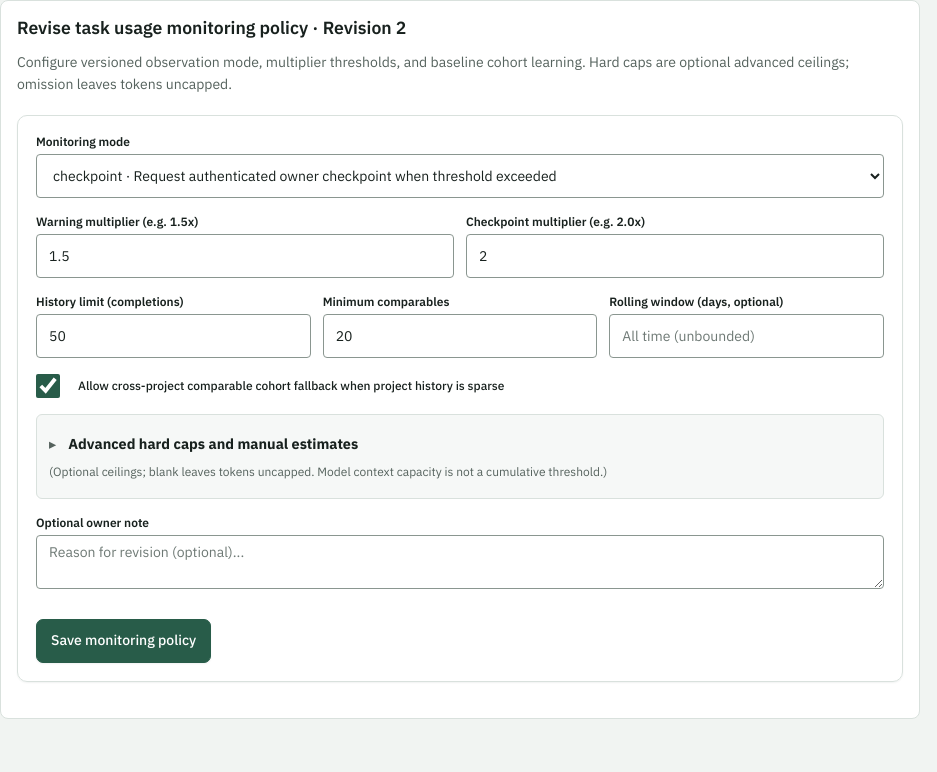
it: MonitoringPolicySummary and MonitoringPolicyEditor › MonitoringPolicyEditor › validates that minimum comparables cannot exceed history limit
Replace the text in the field labelled "Minimum comparables" with "100". click: (460,336)
box: 323,314 -> 597,358
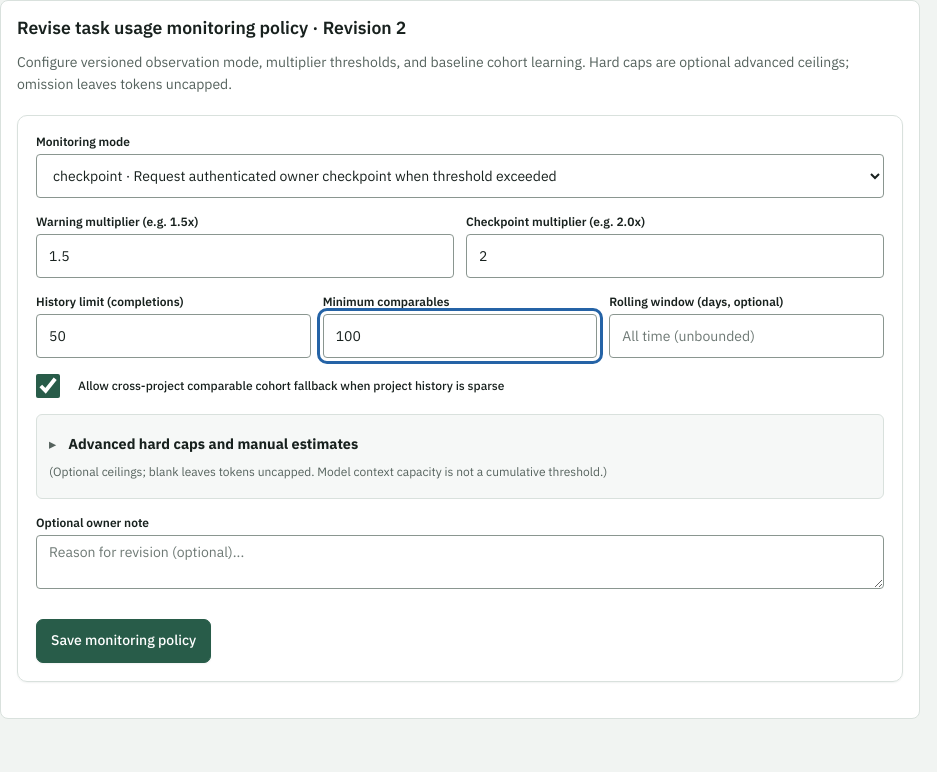
Click the button "Save monitoring policy". click: (124,641)
box: 36,619 -> 211,663
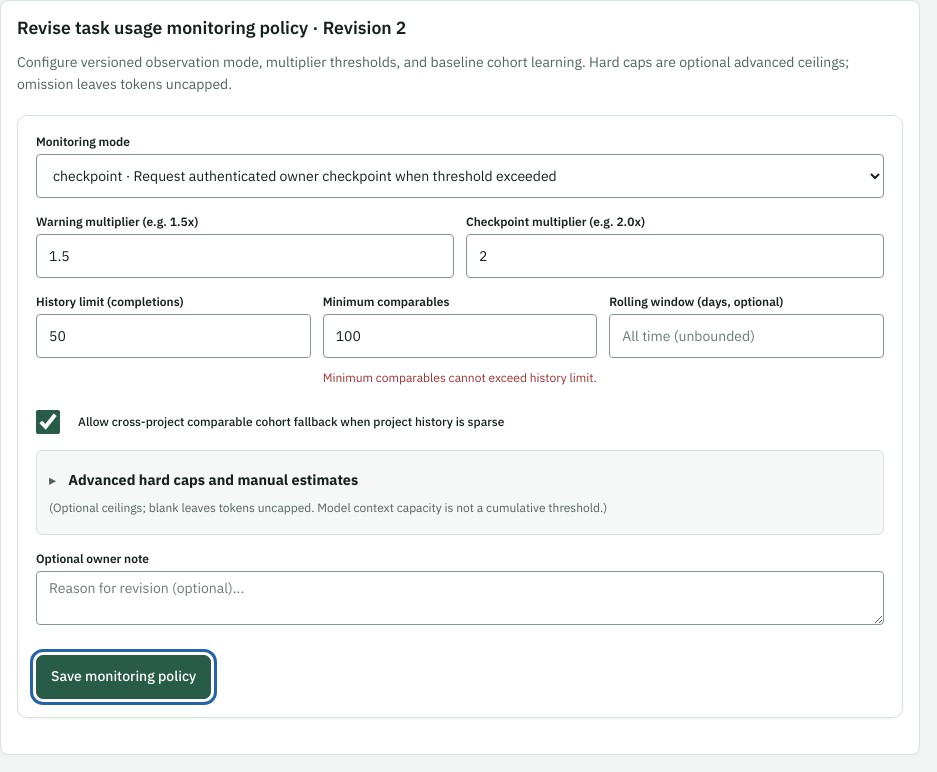
expect the text "Minimum comparables cannot exceed history limit." is shown: met, box 323,370 -> 597,386
